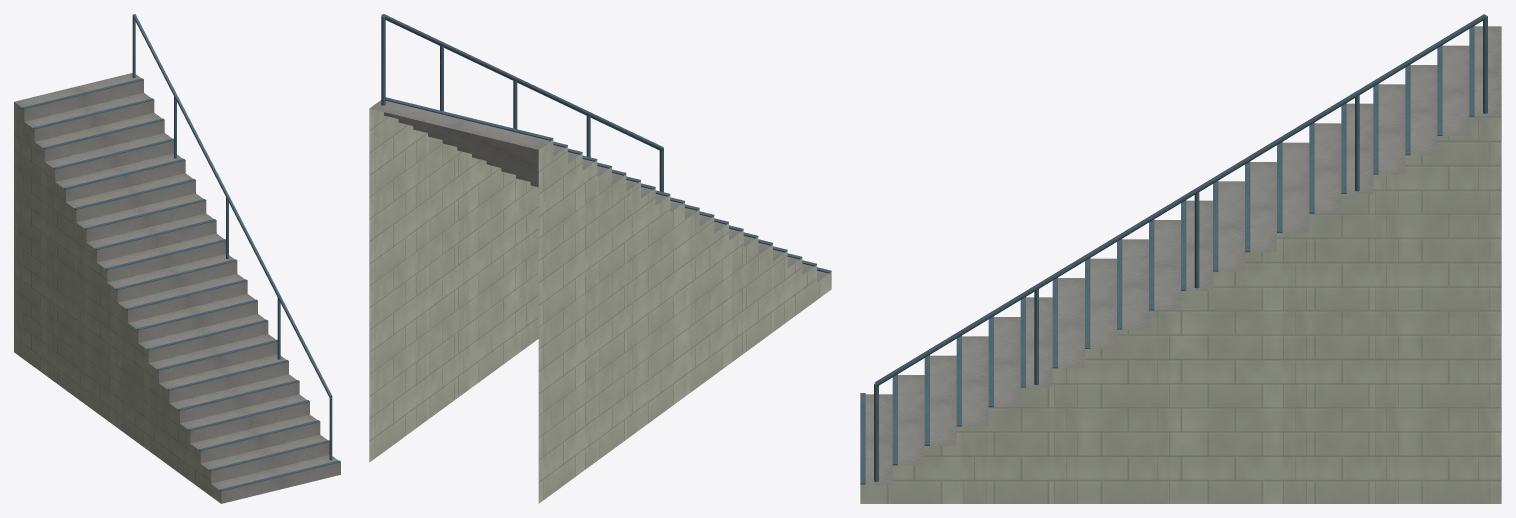
Rendered from stairs_prison.fbx.
3 views of the same model, side by side, from view 1: azimuth 30°, elevation 25°; view 2: azimuth 150°, elevation 25°; view 3: azimuth 270°, elevation 25° (orthographic). The views are drawn at different scales.
Parts seen in each view (by area): view 1: stairs_prison_step20, stairs_prison_step19, stairs_prison_step18, stairs_prison_step17, stairs_prison_step16, stairs_prison_step15, stairs_prison_step14, stairs_prison_step13, stairs_prison_step12, stairs_prison_step11, stairs_prison_step10, stairs_prison_step09 (+9 smaller); view 2: stairs_prison_step20, stairs_prison_step19, stairs_prison_step18, stairs_prison_step17, stairs_prison_step16, stairs_prison_step15, stairs_prison_step14, stairs_prison_step13, stairs_prison_step12, stairs_prison_step11, stairs_prison_step10, stairs_prison_step09 (+8 smaller); view 3: stairs_prison_step20, stairs_prison_step19, stairs_prison_step18, stairs_prison_step17, stairs_prison_step16, stairs_prison_step15, stairs_prison_step14, stairs_prison_step13, stairs_prison_step12, stairs_prison_step11, stairs_prison_step10, stairs_prison_step09 (+9 smaller).
Part boxes in pixels (bbox=[...]): stairs_prison_step20: bbox=[14, 73, 143, 359]; stairs_prison_step19: bbox=[24, 93, 154, 366]; stairs_prison_step18: bbox=[34, 113, 164, 374]; stairs_prison_step17: bbox=[45, 133, 173, 381]; stairs_prison_step16: bbox=[55, 153, 185, 389]; stairs_prison_step15: bbox=[66, 173, 195, 397]; stairs_prison_step14: bbox=[76, 193, 206, 404]; stairs_prison_step13: bbox=[86, 213, 216, 412]; stairs_prison_step12: bbox=[97, 233, 225, 419]; stairs_prison_step11: bbox=[107, 254, 237, 427]; stairs_prison_step10: bbox=[117, 273, 247, 435]; stairs_prison_step09: bbox=[128, 294, 257, 442]; stairs_prison_step20: bbox=[369, 97, 553, 503]; stairs_prison_step19: bbox=[384, 115, 567, 492]; stairs_prison_step18: bbox=[398, 122, 582, 481]; stairs_prison_step17: bbox=[413, 129, 597, 471]; stairs_prison_step16: bbox=[428, 136, 611, 460]; stairs_prison_step15: bbox=[442, 143, 626, 449]; stairs_prison_step14: bbox=[457, 150, 640, 439]; stairs_prison_step13: bbox=[472, 157, 655, 428]; stairs_prison_step12: bbox=[486, 164, 670, 417]; stairs_prison_step11: bbox=[501, 171, 684, 407]; stairs_prison_step10: bbox=[516, 178, 699, 396]; stairs_prison_step09: bbox=[530, 185, 714, 385]; stairs_prison_step20: bbox=[1469, 26, 1501, 503]; stairs_prison_step19: bbox=[1437, 45, 1469, 503]; stairs_prison_step18: bbox=[1405, 64, 1437, 503]; stairs_prison_step17: bbox=[1373, 84, 1405, 503]; stairs_prison_step16: bbox=[1341, 103, 1373, 503]; stairs_prison_step15: bbox=[1309, 122, 1341, 503]; stairs_prison_step14: bbox=[1277, 142, 1309, 503]; stairs_prison_step13: bbox=[1245, 161, 1276, 503]; stairs_prison_step12: bbox=[1213, 181, 1244, 503]; stairs_prison_step11: bbox=[1181, 200, 1212, 503]; stairs_prison_step10: bbox=[1149, 219, 1180, 503]; stairs_prison_step09: bbox=[1117, 239, 1148, 503].
Size of the model in its own units: 2 by 5.02 by 6.
1 material, 1 textured.
